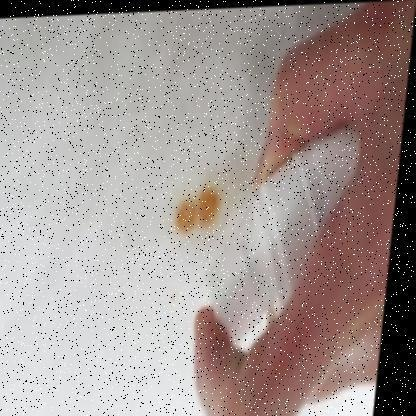kimchi: (176, 183, 217, 231)
